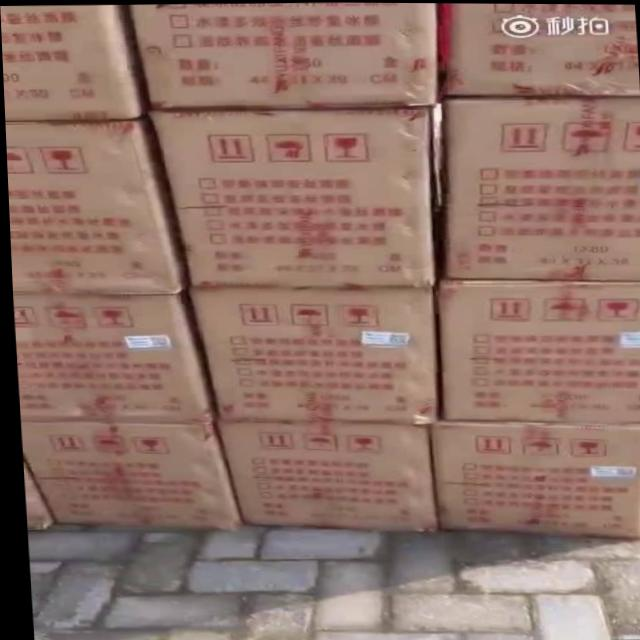box: (147, 105, 434, 286), (439, 95, 640, 280), (184, 284, 433, 424), (127, 2, 437, 108), (4, 116, 183, 294), (435, 278, 640, 421), (12, 289, 213, 423), (426, 419, 640, 537), (211, 419, 434, 531), (18, 420, 237, 530), (437, 3, 638, 98), (0, 4, 148, 121)
